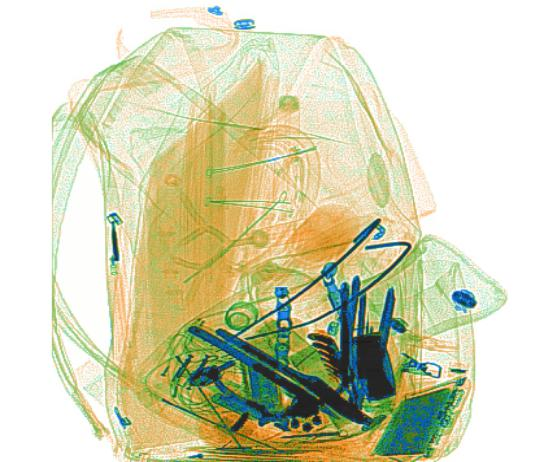battery: (210, 392, 272, 423)
